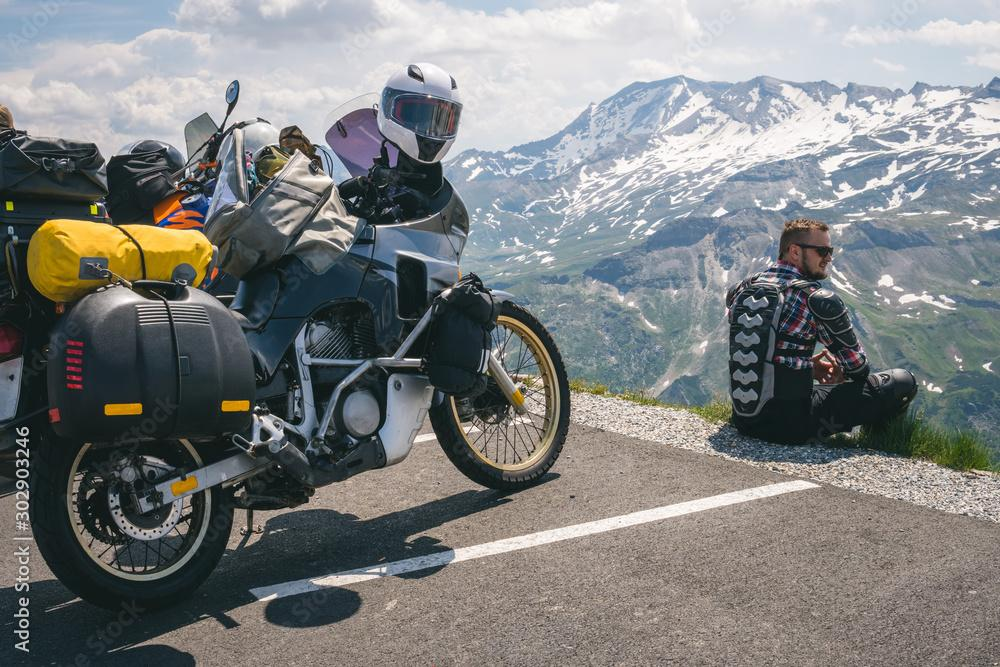helmet: (376, 62, 464, 166)
nohelmet: (777, 217, 835, 281)
